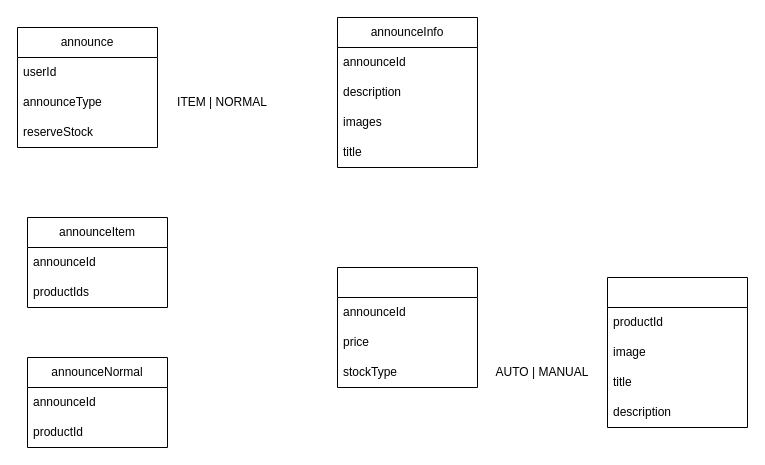
The diagram is 765 pixels wide and 465 high, and some of its shapes have lost their labels. Each missing label, with the box of its shape:
product: (336, 266, 478, 388)
productInfo: (606, 276, 748, 428)
